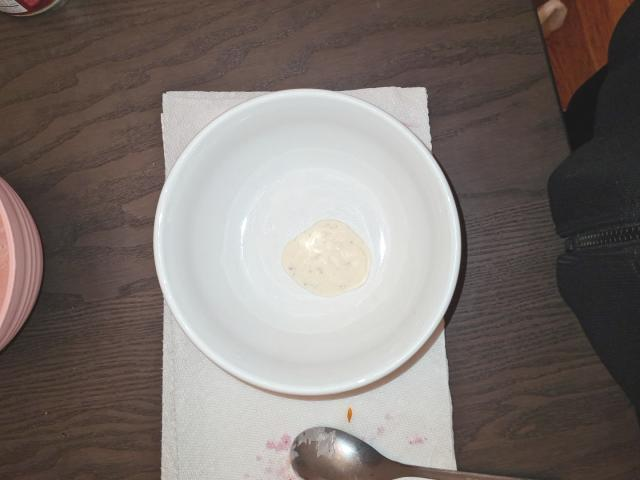kichen waste: (281, 219, 371, 298)
